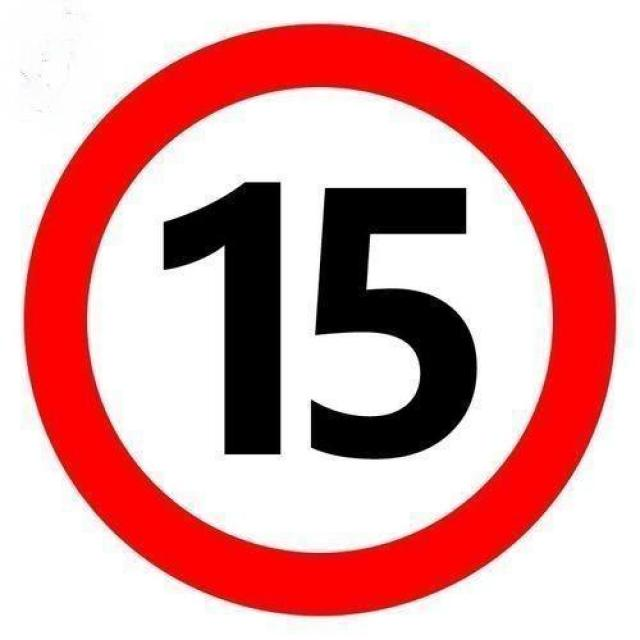speed limit 20: (22, 21, 617, 617)
